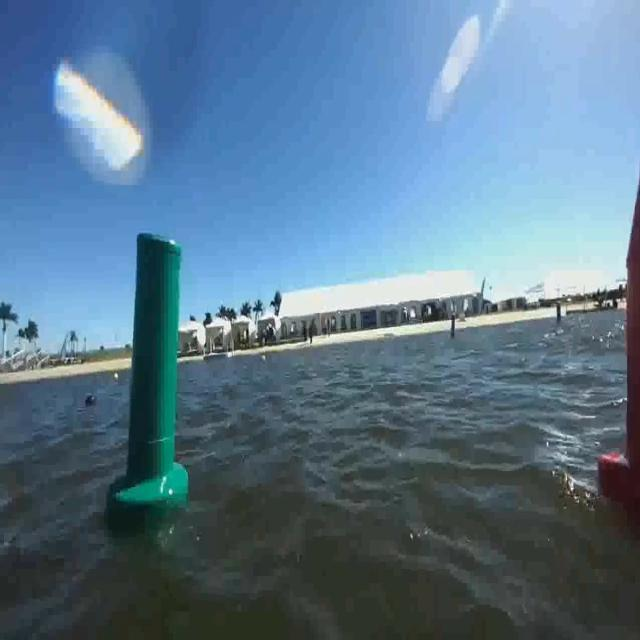green-column-buoy: (114, 231, 190, 518)
